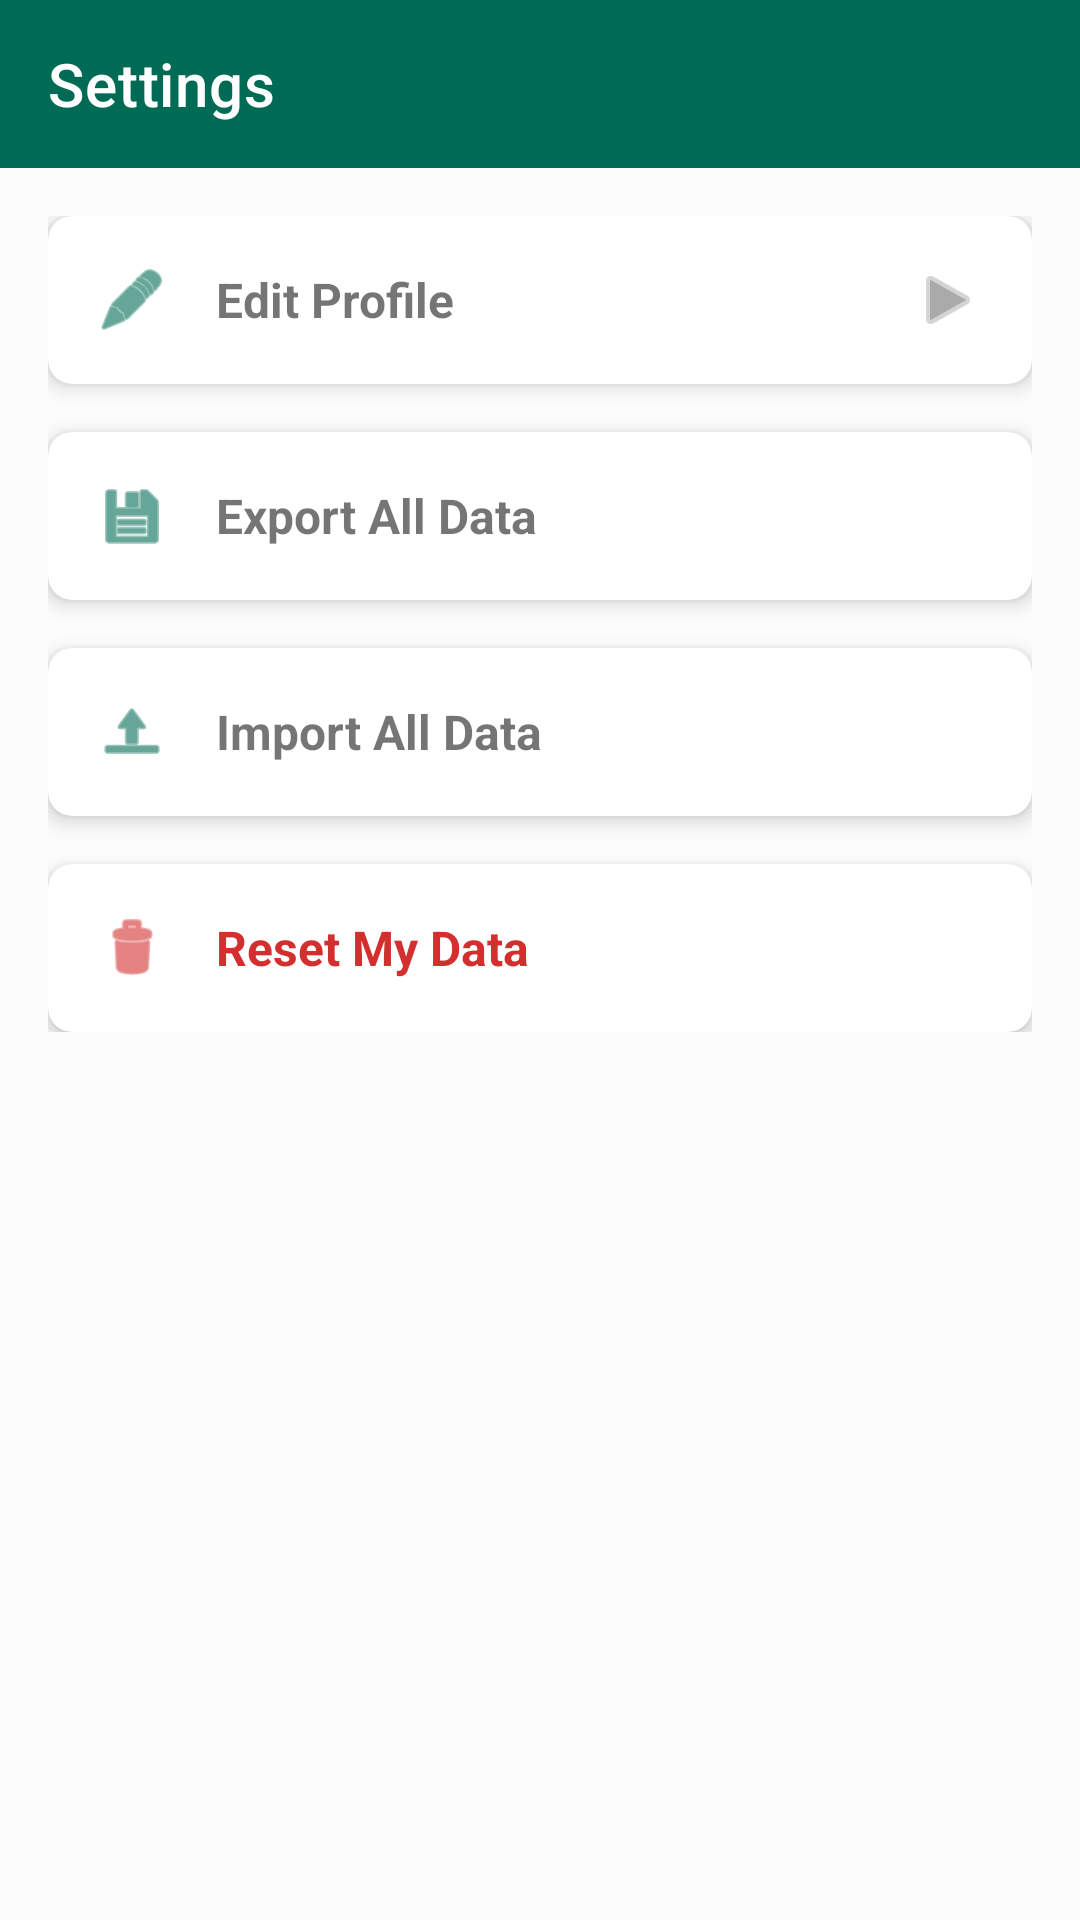

Screen size 1080px x 1920px. Icon name, then its center in pixels as point (x, y):
delete: point (132, 947)
play: point (948, 300)
save: point (132, 516)
upload: point (132, 731)
